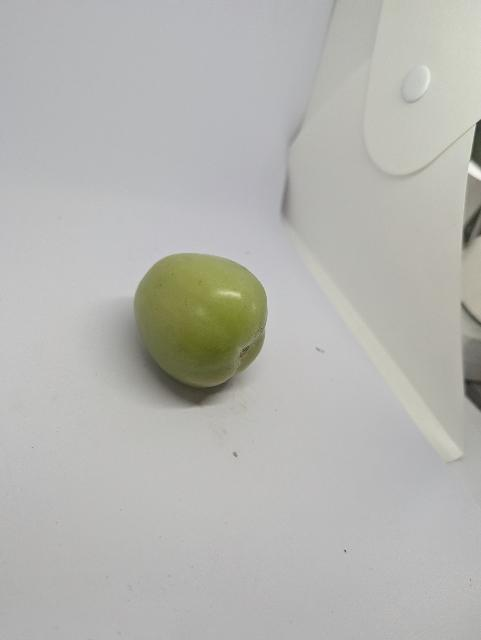green: (123, 240, 275, 395)
